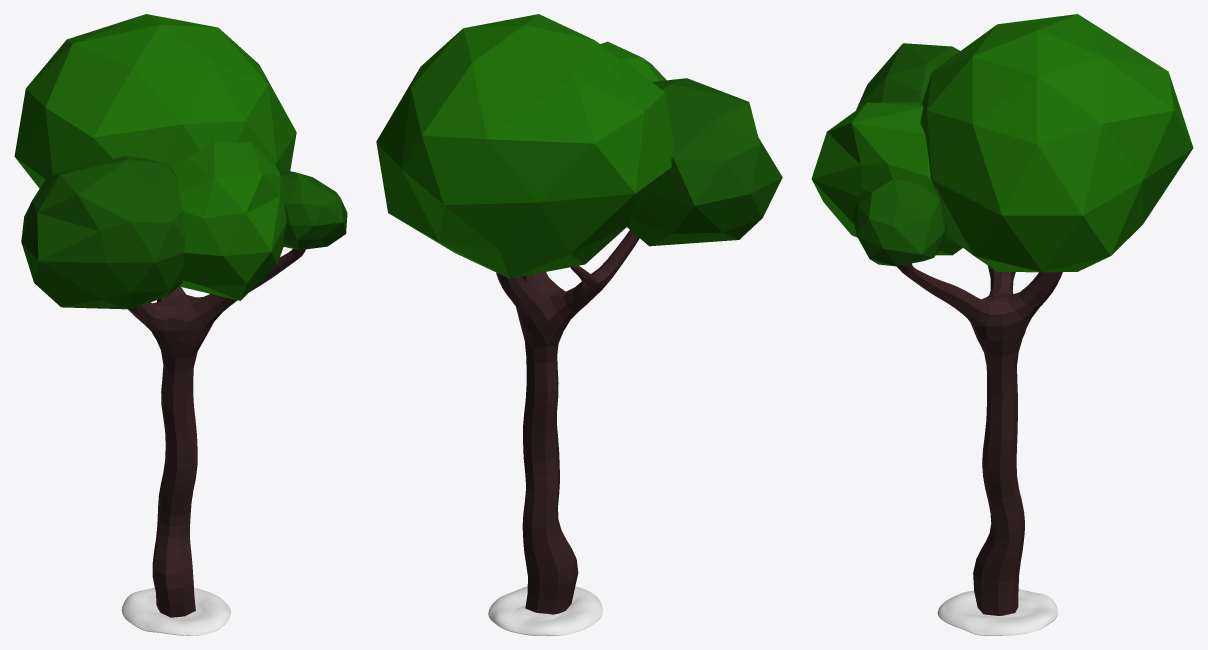
Rendered from TreeAsset.fbx.
3 views of the same model, side by side, from view 1: azimuth 30°, elevation 25°; view 2: azimuth 150°, elevation 25°; view 3: azimuth 270°, elevation 25° (orthographic). The views are drawn at different scales.
Visible parts, largest first — view 1: Leaves_1, Leaves_4, Leaves_3, Trunk, Leaves_2, Sphere; view 2: Leaves_1, Leaves_4, Trunk, Sphere, Leaves_3; view 3: Leaves_1, Trunk, Leaves_3, Leaves_2, Leaves_4, Sphere.
Boxes of the visible parts, box(x1,y1,x2,y2) form: Leaves_1: box(14, 14, 296, 188); Leaves_4: box(21, 155, 185, 309); Leaves_3: box(170, 140, 286, 300); Trunk: box(128, 249, 305, 617); Leaves_2: box(280, 170, 347, 250); Sphere: box(121, 587, 230, 635); Leaves_1: box(376, 14, 673, 278); Leaves_4: box(627, 78, 782, 246); Trunk: box(496, 230, 639, 614); Sphere: box(488, 586, 602, 635); Leaves_3: box(600, 41, 666, 81); Leaves_1: box(920, 14, 1193, 272); Trunk: box(896, 263, 1062, 615); Leaves_3: box(811, 102, 962, 255); Leaves_2: box(853, 177, 945, 266); Leaves_4: box(856, 43, 959, 109); Sphere: box(937, 589, 1057, 635).
Size of the model in its own units: 993 by 1799 by 1063.
